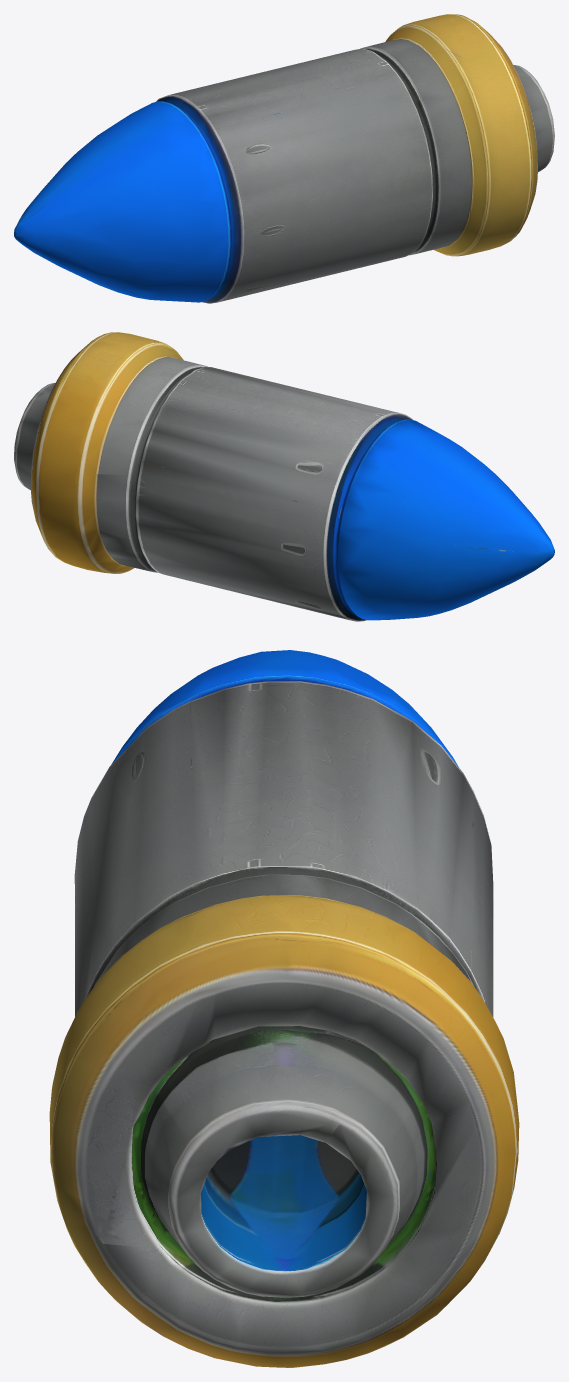
The model's file is SG02_Projectile_BlueRocket.fbx.
The picture shows the model from 3 angles, top to bottom: view 1: azimuth 30°, elevation 25°; view 2: azimuth 150°, elevation 25°; view 3: azimuth 270°, elevation 25°; orthographic projection. The views are drawn at different scales.
Parts seen in each view (by area): view 1: Mesh1.0; view 2: Mesh1.0; view 3: Mesh1.0.
Boxes of the visible parts, x1,y1,x2,y2 form: Mesh1.0: [14, 14, 554, 303]; Mesh1.0: [14, 332, 554, 621]; Mesh1.0: [49, 650, 519, 1367].
Bounding box in the file's own units: 191 × 77.7 × 75.74.
Materials: 1 (1 with a texture image).
